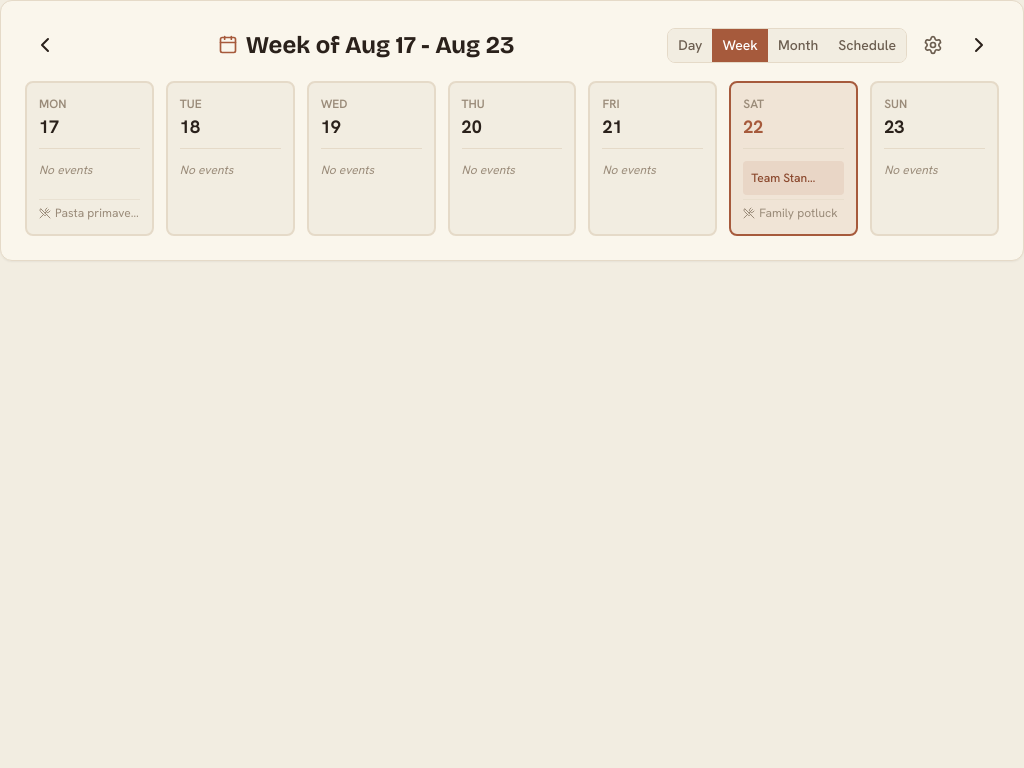
WeekCalendar — interactions › event detail modal › closes the modal via the X button
Click the text "Team Standup" at (786, 178), box [751,169,820,187]
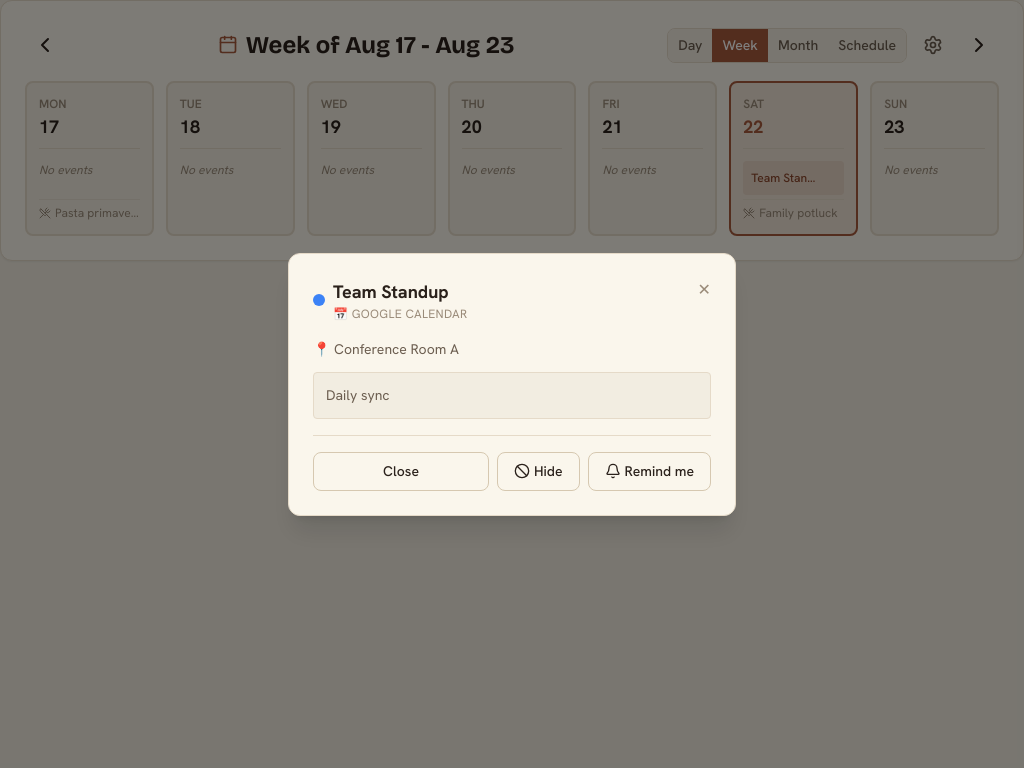
Result: the text "📍 Conference Room A" is shown at [313,340,459,358]
Click the button "✕" at (704, 290), box [698,278,711,302]
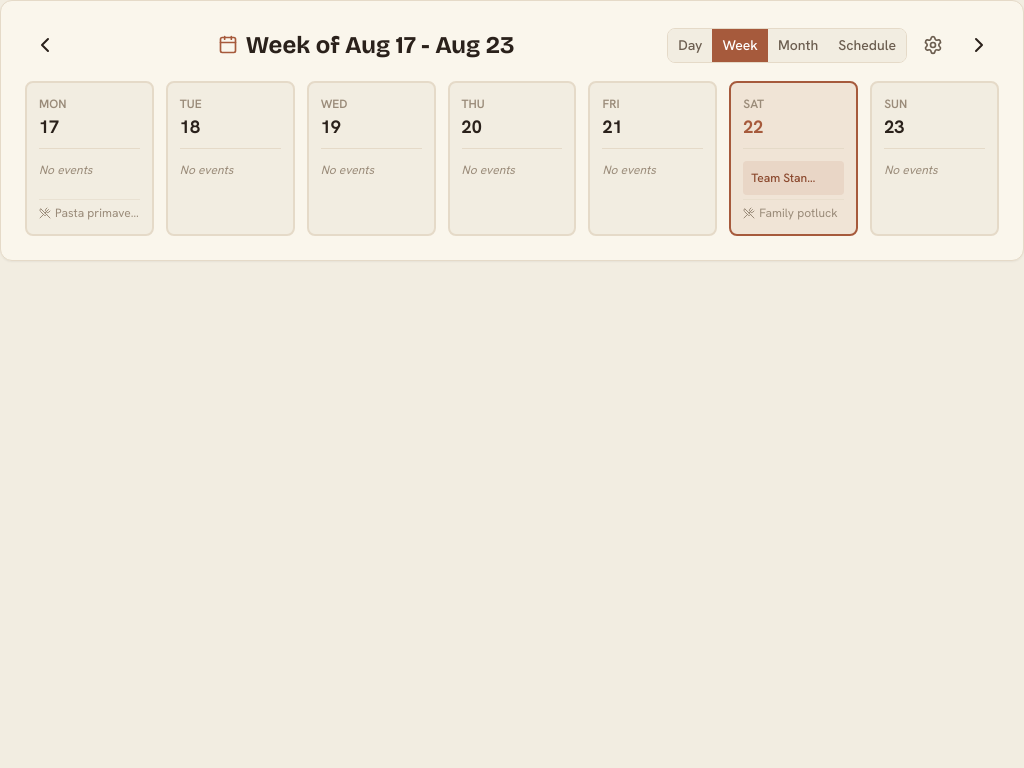
Result: the text "Conference Room A" is gone
